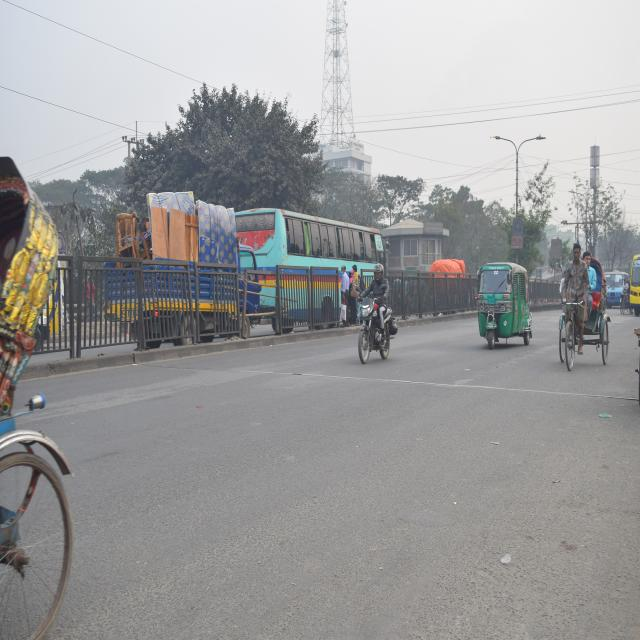motorbike: (338, 294, 405, 379)
pickup-van: (607, 258, 634, 310)
